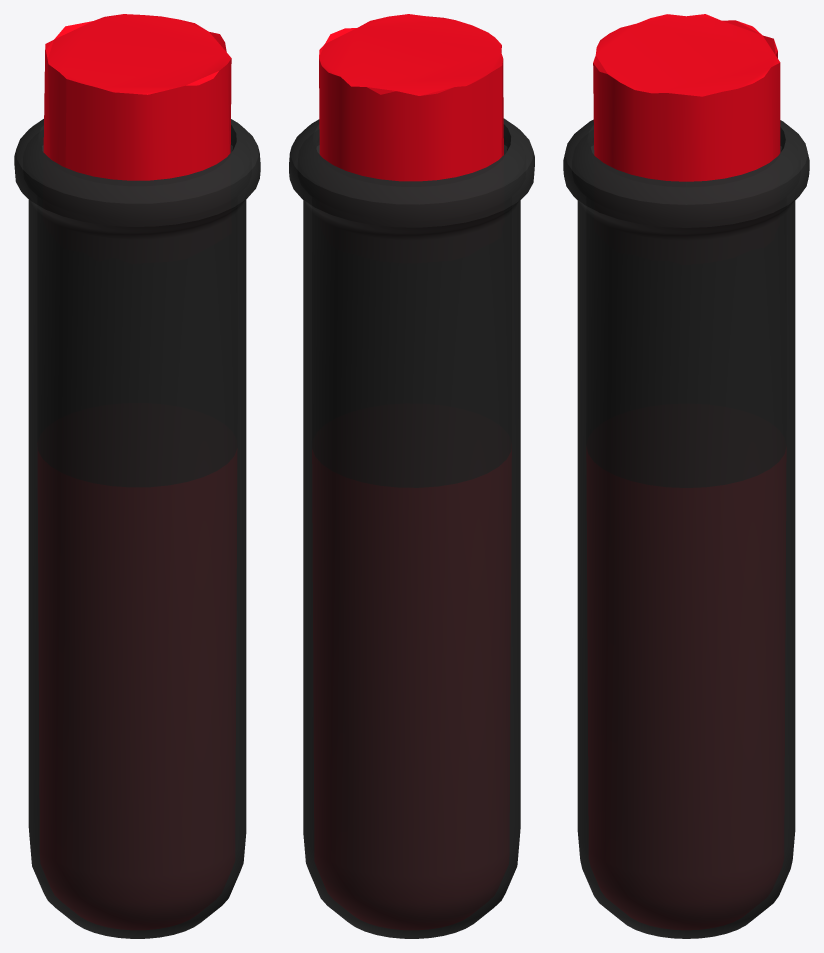
The model's file is krov.fbx.
The picture shows the model from 3 angles, left to right: view 1: azimuth 30°, elevation 25°; view 2: azimuth 150°, elevation 25°; view 3: azimuth 270°, elevation 25°; orthographic projection.
Visible parts, largest first — view 1: kolba; view 2: kolba; view 3: kolba.
Boxes of the visible parts, x1,y1,x2,y2 form: kolba: (14, 14, 260, 938); kolba: (289, 14, 534, 938); kolba: (563, 14, 809, 938).
Size of the model in its own units: 226 by 882 by 226.
